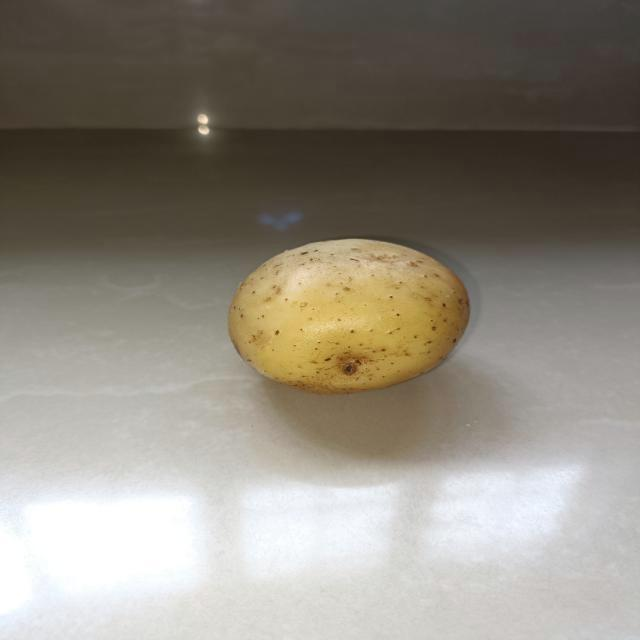potato: (221, 234, 474, 396)
